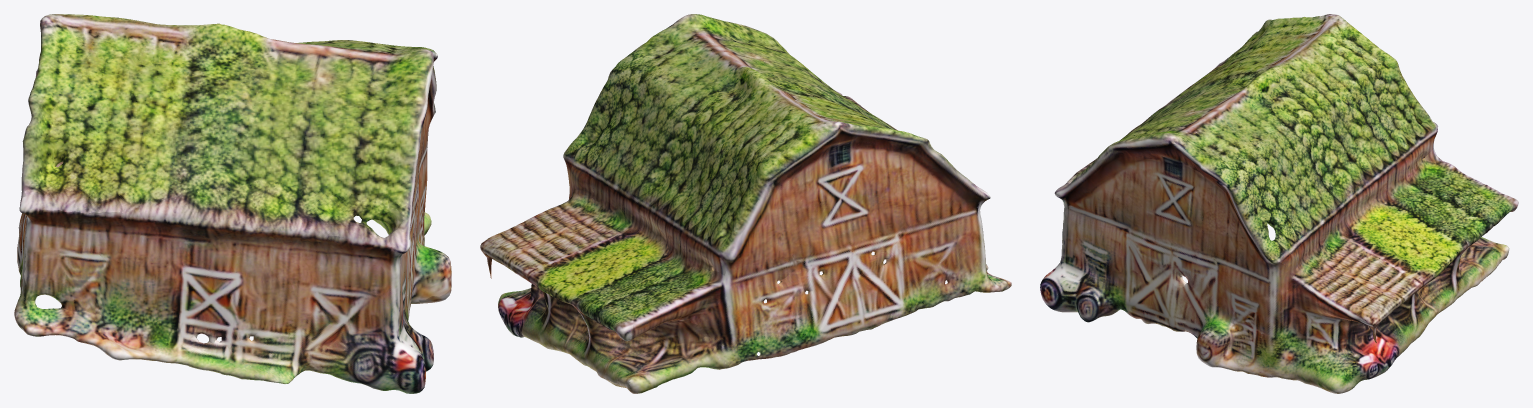
File: farm.glb
3 renders of one model, left to right at view 1: azimuth 30°, elevation 25°; view 2: azimuth 150°, elevation 25°; view 3: azimuth 270°, elevation 25°, orthographic. The views are drawn at different scales.
Visible parts, largest first — view 1: geometry_0; view 2: geometry_0; view 3: geometry_0.
Boxes of the visible parts, left/top/right/bottom form: geometry_0: left=14, top=14, right=451, bottom=393; geometry_0: left=480, top=14, right=1011, bottom=393; geometry_0: left=1040, top=14, right=1518, bottom=393.
Bounding box in the file's own units: 0.7226 × 0.431 × 0.7866.
Materials: 1 (1 with a texture image).
